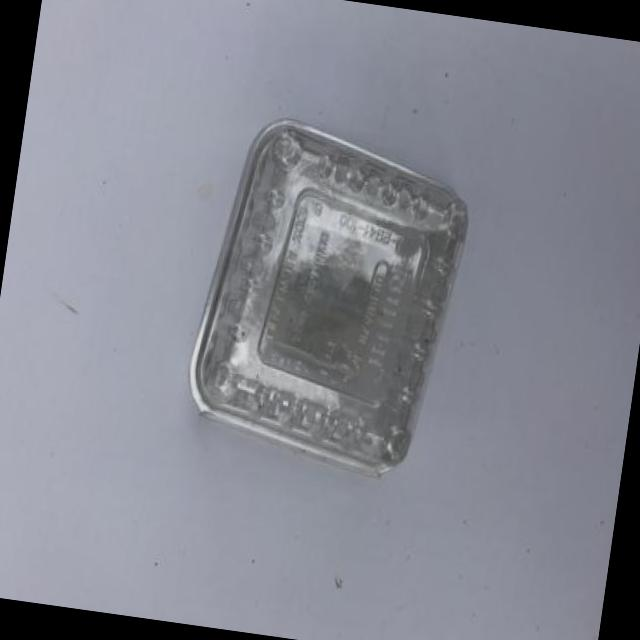Recycle: (176, 110, 480, 488)
